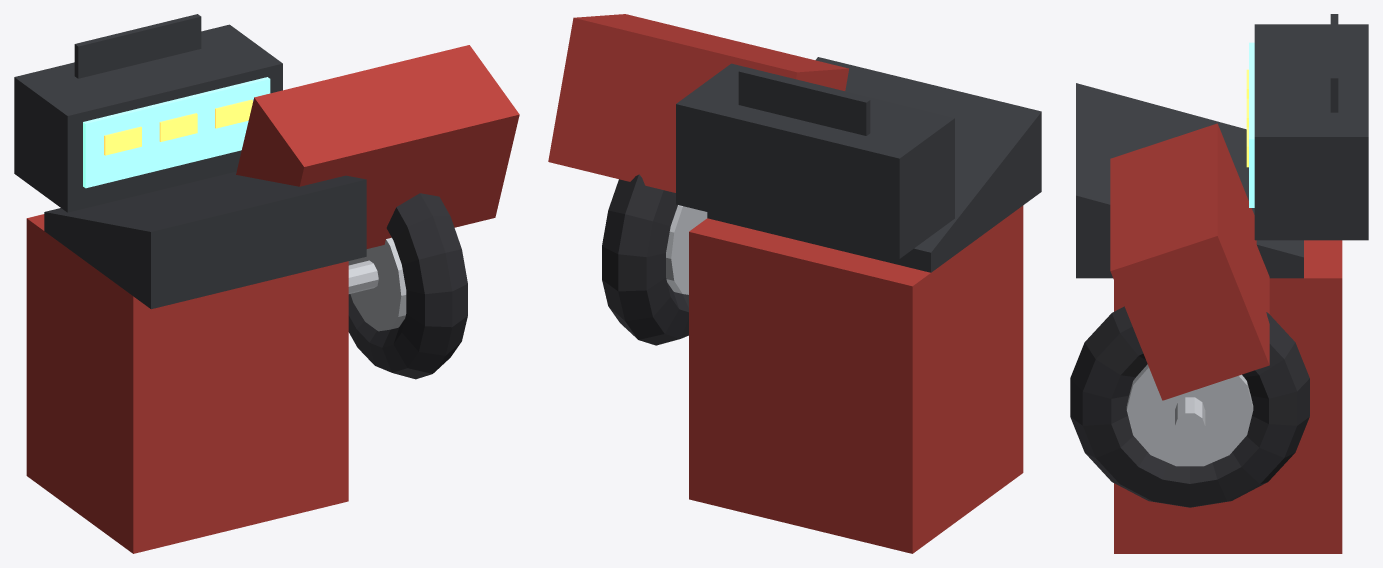
The model's file is wheel_balancer.glb.
3 renders of one model, left to right at view 1: azimuth 30°, elevation 25°; view 2: azimuth 150°, elevation 25°; view 3: azimuth 270°, elevation 25°, orthographic. The views are drawn at different scales.
Parts seen in each view (by area): view 1: wheel_balancer; view 2: wheel_balancer; view 3: wheel_balancer.
Boxes of the visible parts, <box> form: wheel_balancer: <box>14,14,519,553</box>; wheel_balancer: <box>548,14,1041,553</box>; wheel_balancer: <box>1070,14,1368,553</box>.
Size of the model in its own units: 1.25 by 1.31 by 0.7851.
